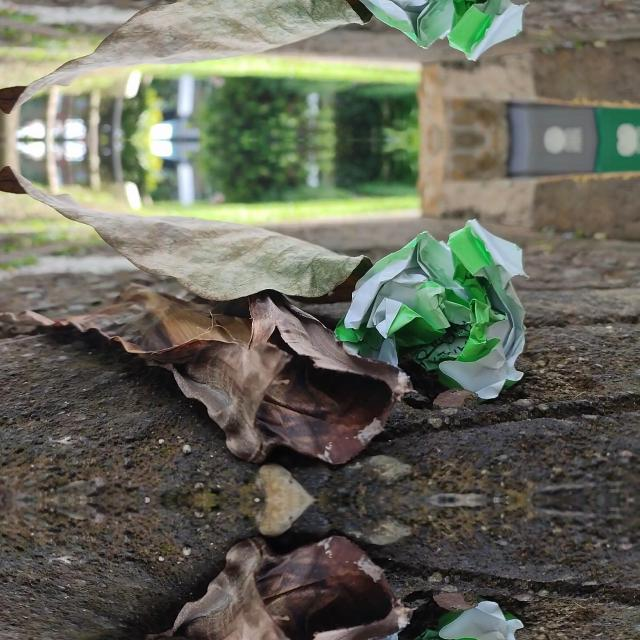paper: (346, 220, 532, 410), (346, 0, 531, 60), (346, 589, 531, 640)
